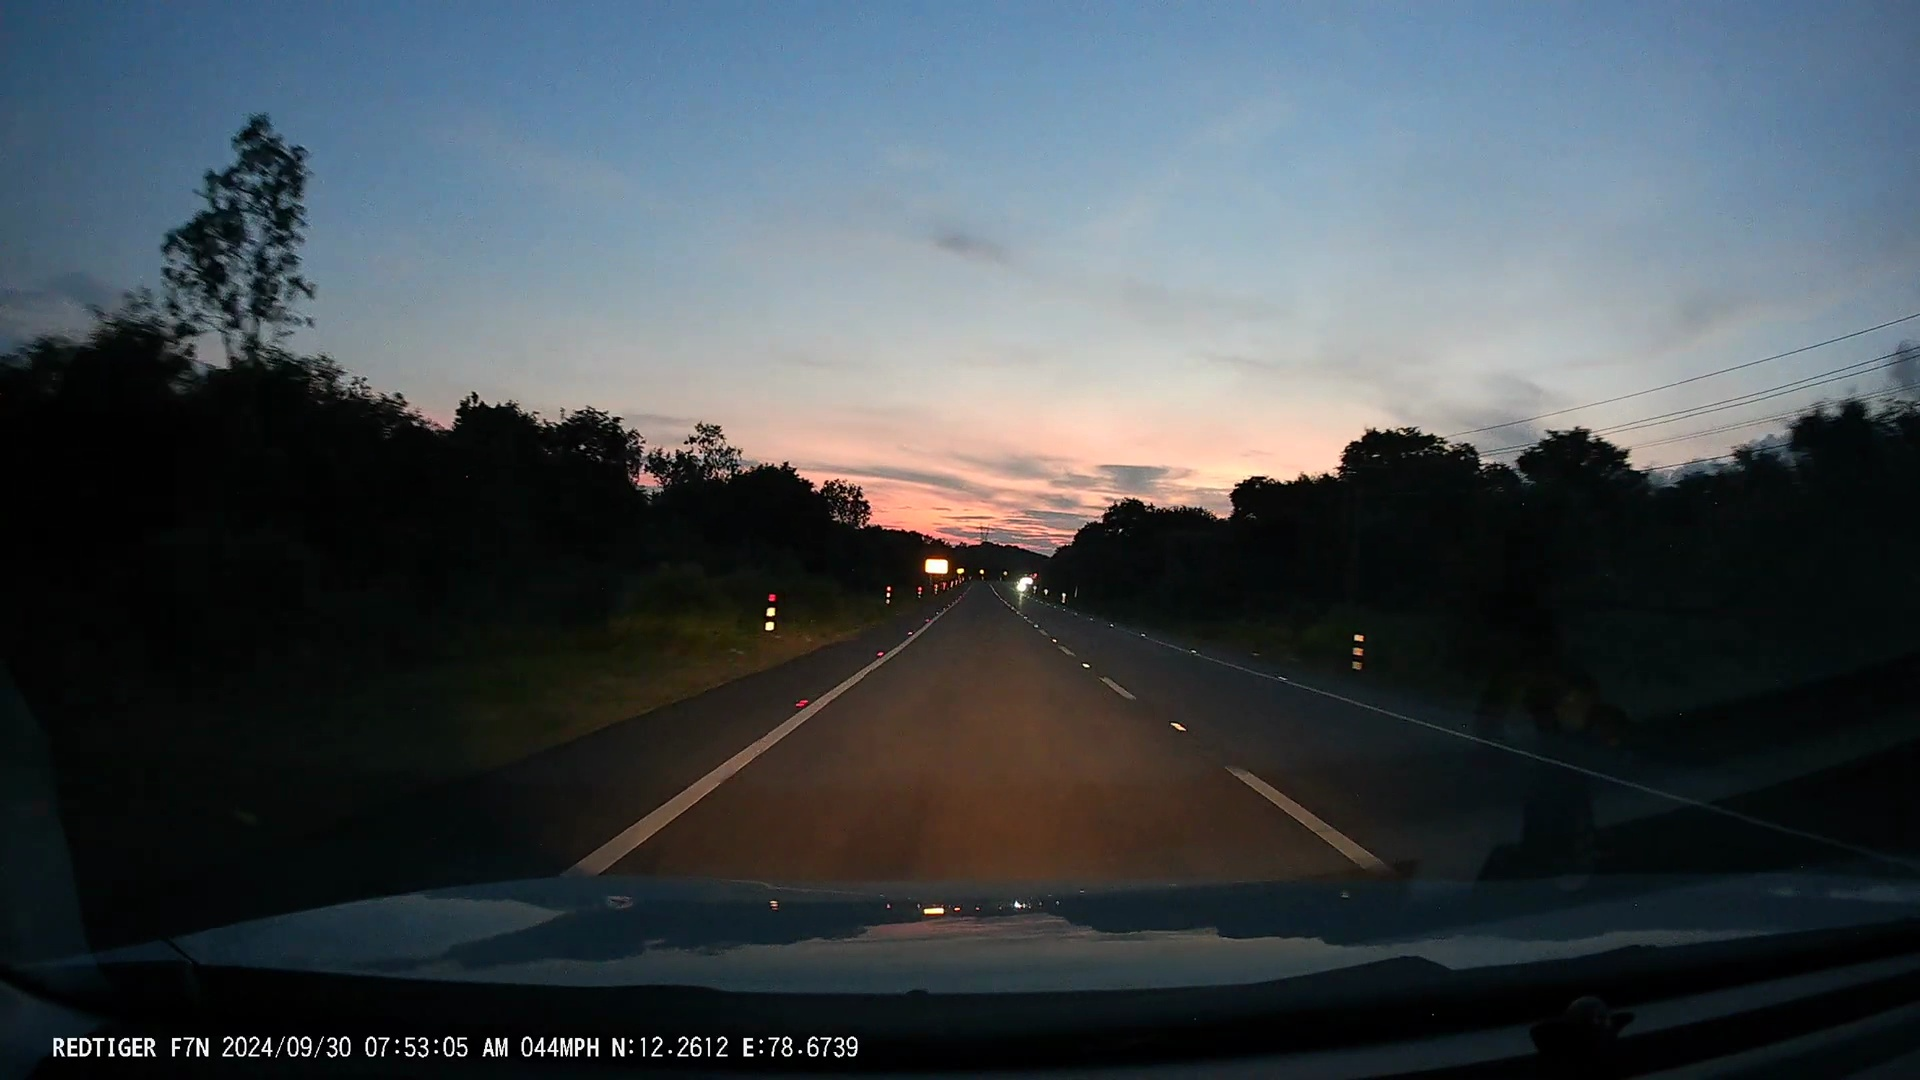headlight: (1015, 576, 1029, 595)
two wheeler: (1009, 568, 1034, 604)
